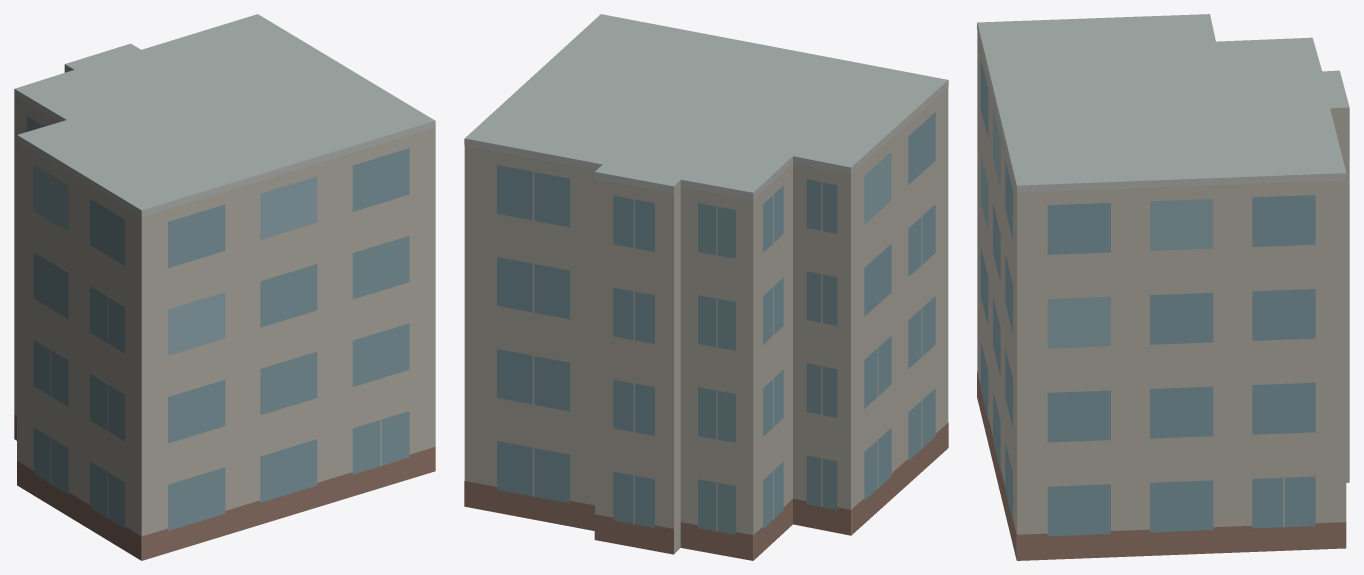
The model's file is survey-upis-32997222.glb.
3 views of the same model, side by side, from view 1: azimuth 30°, elevation 25°; view 2: azimuth 150°, elevation 25°; view 3: azimuth 270°, elevation 25° (orthographic). The views are drawn at different scales.
Parts seen in each view (by area): view 1: survey-upis-32997222.tmp; view 2: survey-upis-32997222.tmp; view 3: survey-upis-32997222.tmp.
Boxes of the visible parts, box(x1,y1,x2,y2) form: survey-upis-32997222.tmp: box(14, 14, 435, 560); survey-upis-32997222.tmp: box(464, 14, 948, 560); survey-upis-32997222.tmp: box(977, 14, 1349, 560).
Bounding box in the file's own units: 12.66 × 12.9 × 11.61.
